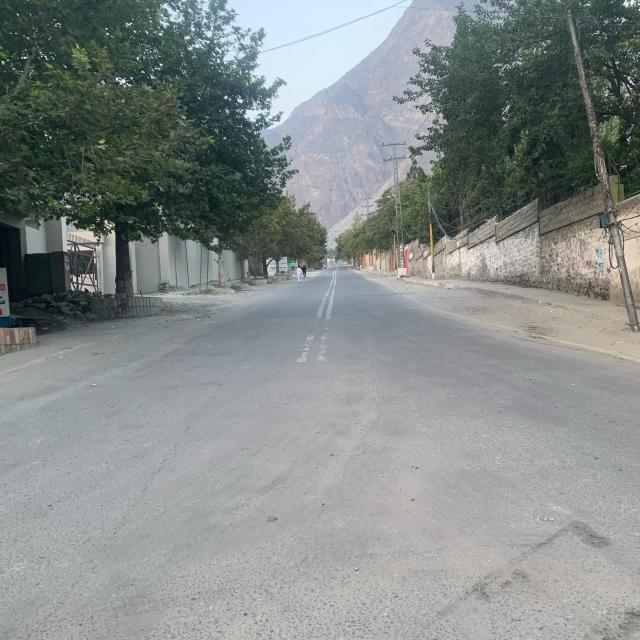Left-Turn: (156, 284, 258, 335)
straight: (272, 258, 341, 574)
